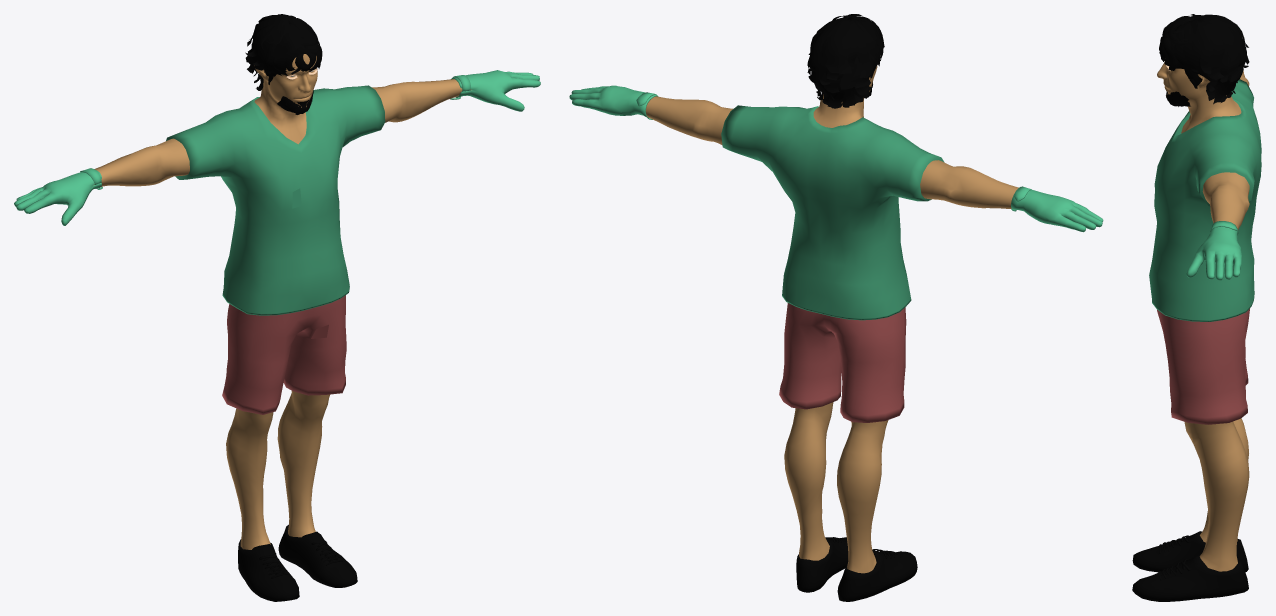
The model's file is goaliefbx final.fbx.
The picture shows the model from 3 angles, left to right: view 1: azimuth 30°, elevation 25°; view 2: azimuth 150°, elevation 25°; view 3: azimuth 270°, elevation 25°; orthographic projection.
Visible parts, largest first — view 1: polySurface255; view 2: polySurface255; view 3: polySurface255.
Part boxes in pixels (<box>): polySurface255: <box>14,14,540,601</box>; polySurface255: <box>569,14,1103,601</box>; polySurface255: <box>1132,14,1261,601</box>.
Bounding box in the file's own units: 16.19 × 16.42 × 3.42.
